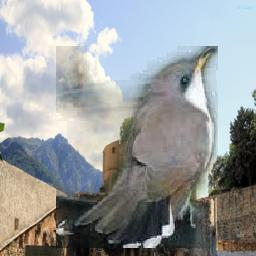Cuckoo: (56, 46, 218, 248)
